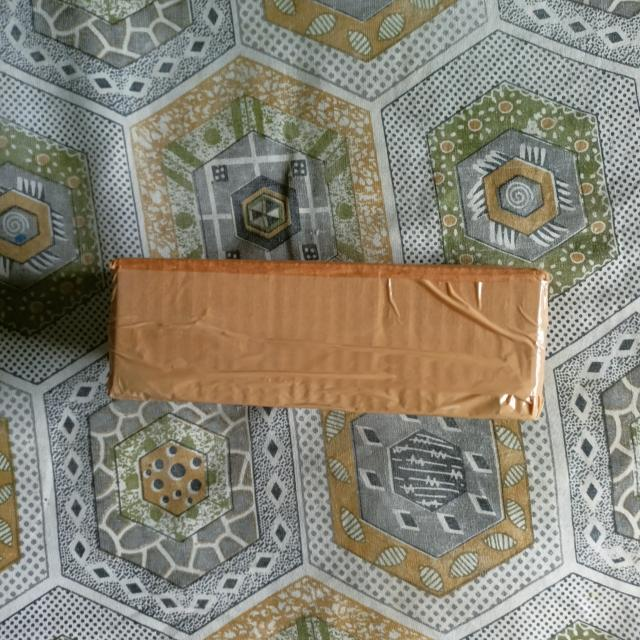box: (113, 260, 541, 414)
